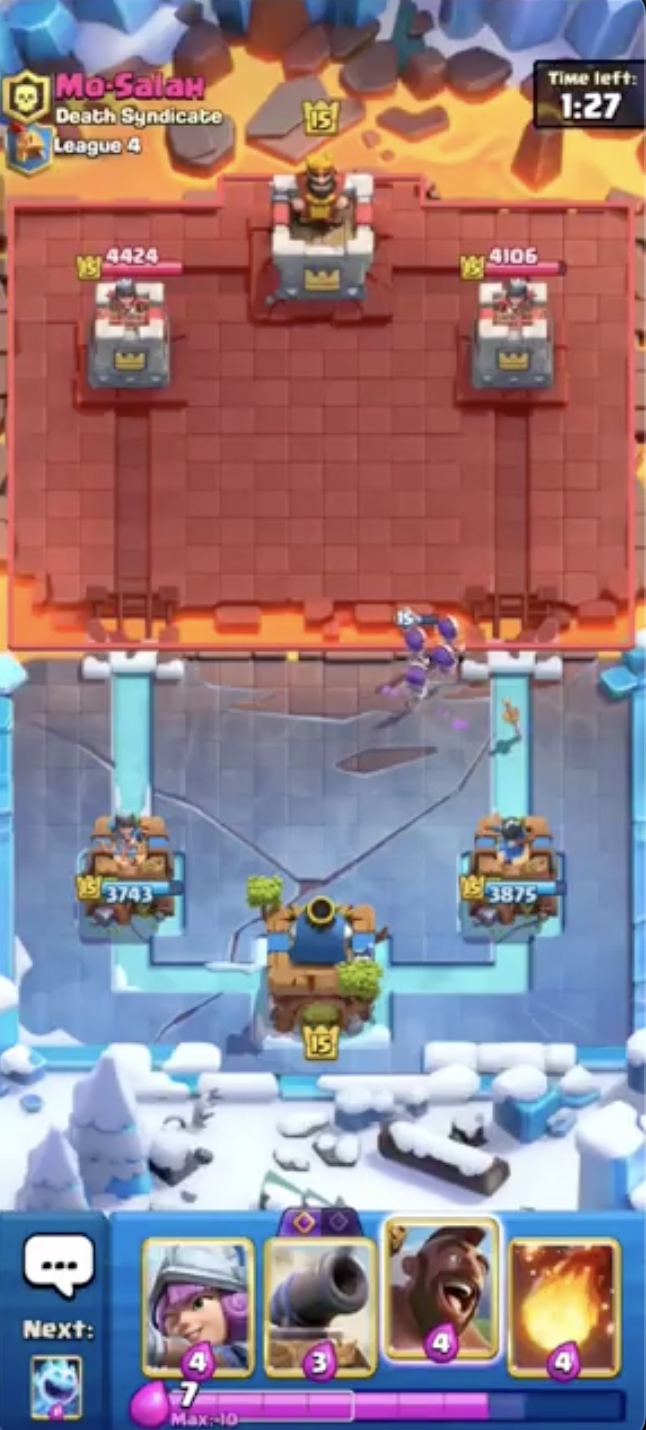evo-skeletons: (396, 606, 438, 665), (402, 657, 434, 709), (431, 609, 467, 654), (430, 640, 463, 682)
